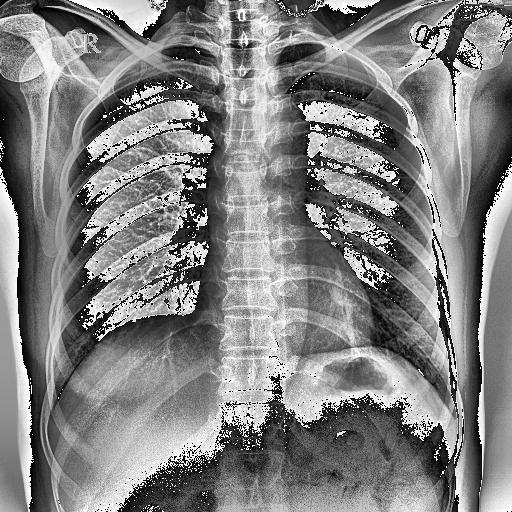2- Calcification: (373, 183, 393, 202), (375, 185, 393, 201), (374, 188, 392, 200)
